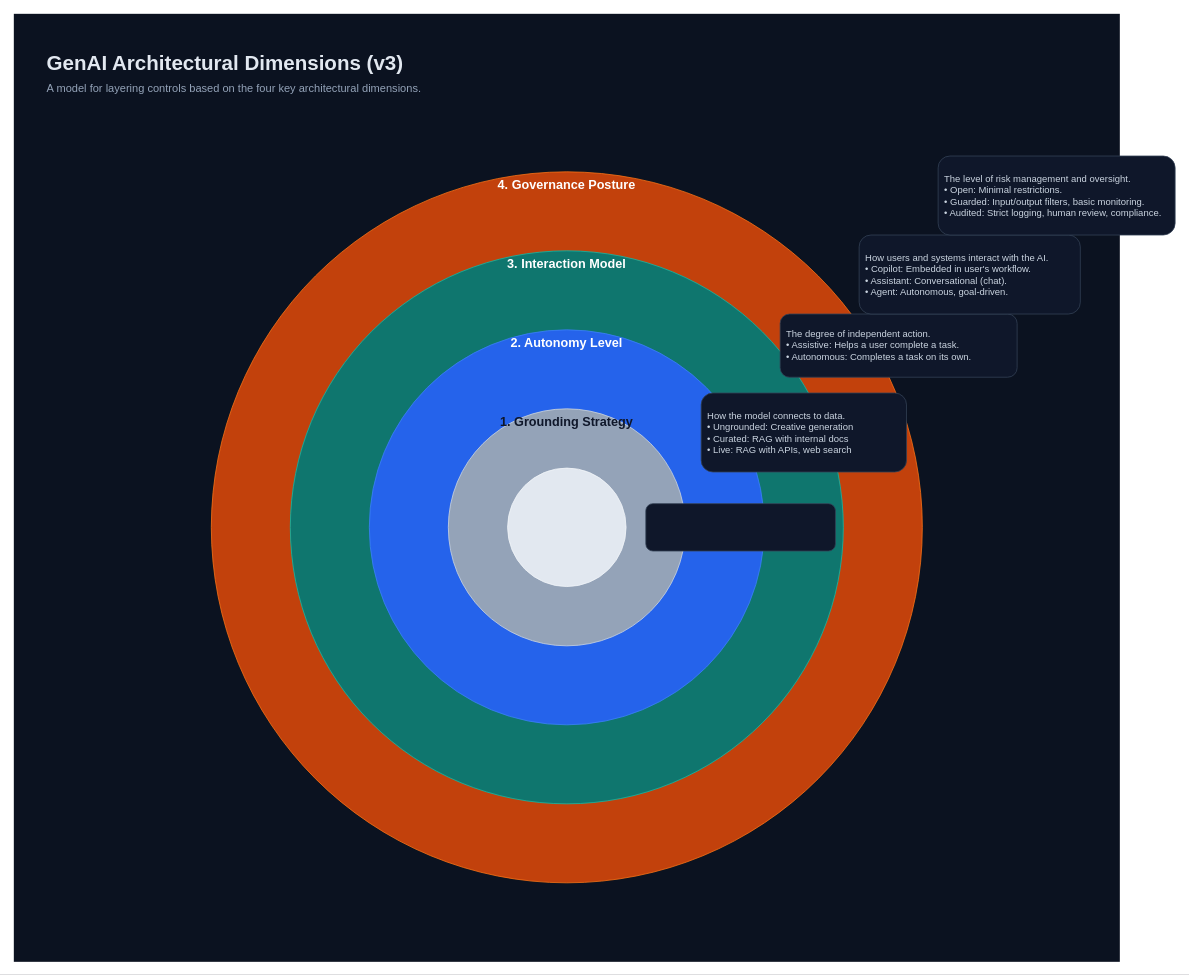
This 1189x975 diagram has some shape labels left out. The centre of each missing label's shape, as x and y in pixels:
"Core Model" goes at (x=566, y=527).
"The base LLM/VLM (e.g., GPT-4, Claude 3, Llama 3)" goes at (x=740, y=527).
